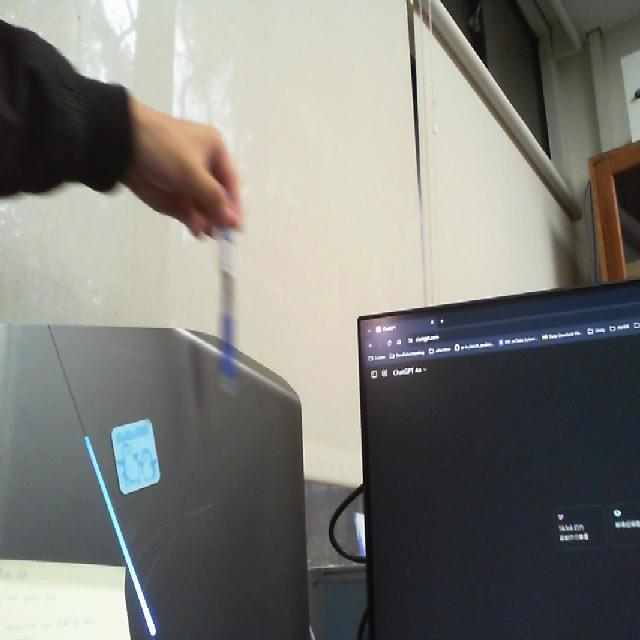Pen: (202, 186, 247, 425)
